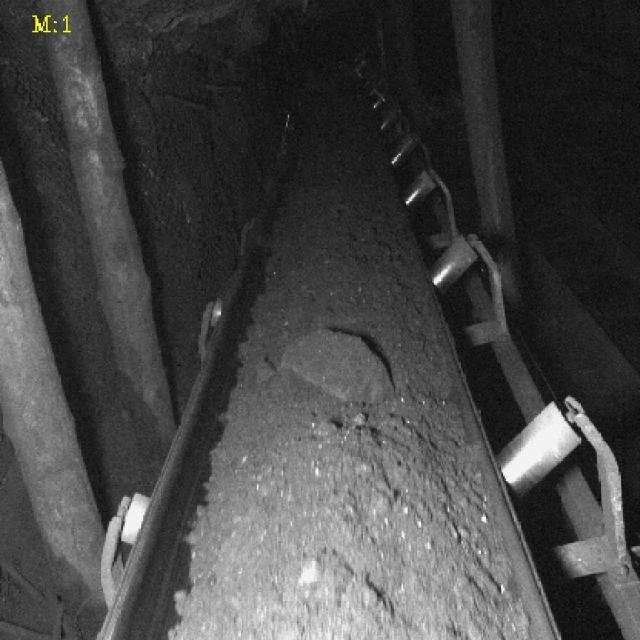large_sized_coal: (276, 329, 392, 405)
